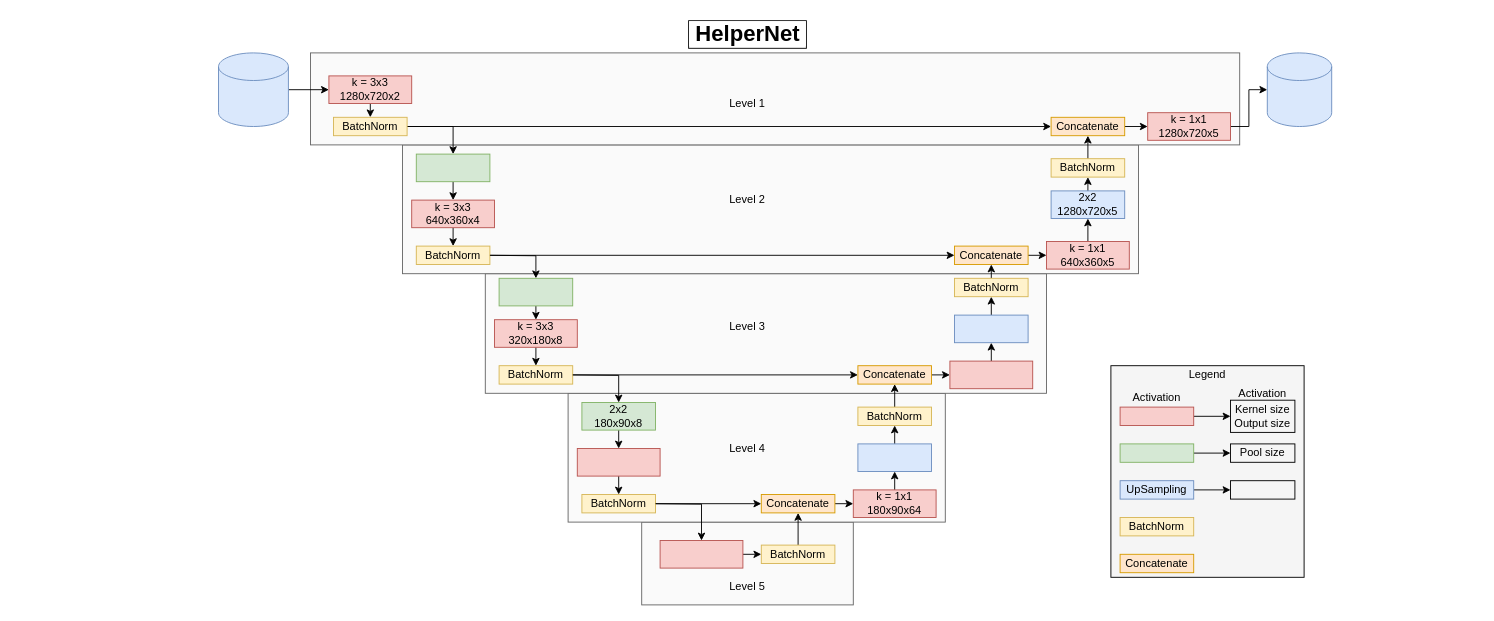
Some shapes in this 1494 by 621 pixel diagram are drawn without their labels. The centre of each missing label's shape, as x and y in pixels:
2x2 320x180x4: (535,291)
2x2 320x180x64: (894,457)
2x2 640x360x2: (452,167)
2x2 640x360x8: (991,328)
Conv2D: (1156,416)
Image 1280x720x3: (253,89)
k = 1x1 320x180x8: (991,374)
k = 3x3 180x90x64: (618,462)
k = 5x5 180x90x128: (701,554)
Mask 1280x720x5: (1299,89)
Maxpool: (1156,452)
Size: (1262,489)
